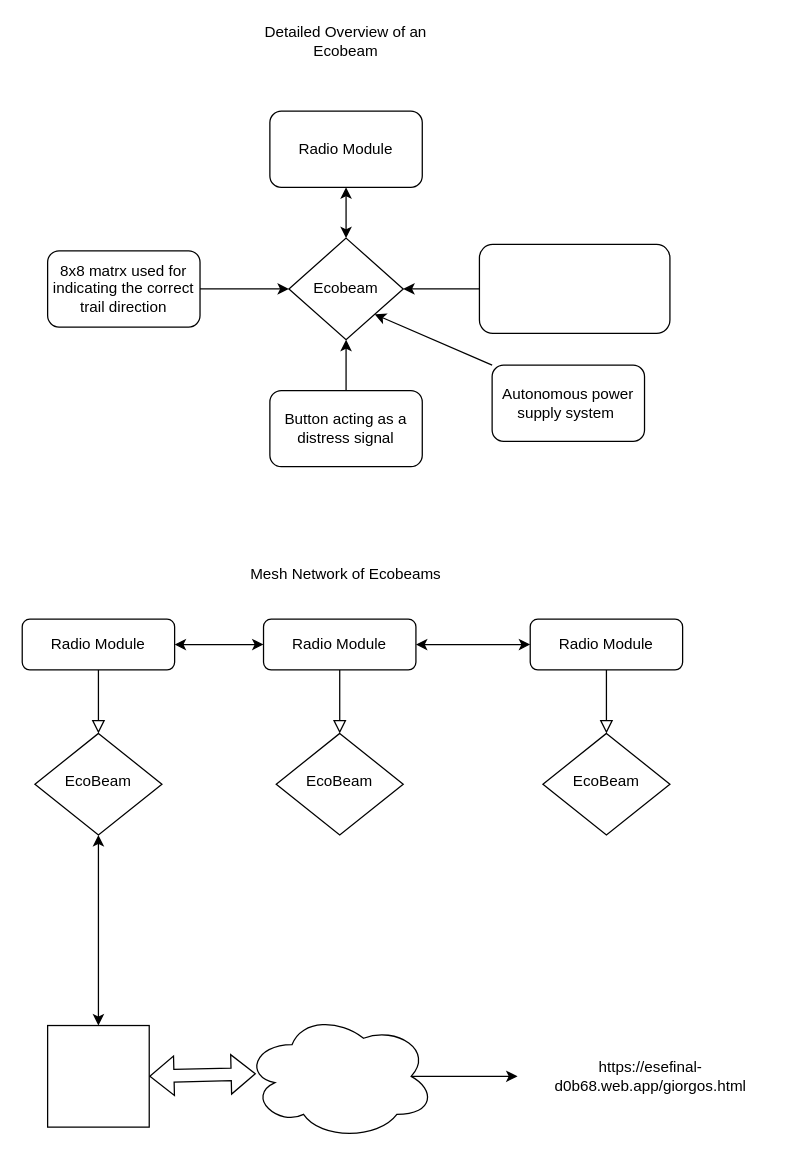
The diagram is 806 pixels wide and 1162 high, and some of its shapes have lost their labels. The shapes that lost their labels are listed below. From the top down, each one's centre as x and y in pixels, then its label:
At [574,288]: "Climate parameters Sensors (Temperature, CO2 concentration".
At [97,1075]: "Ground station".
At [339,1076]: "Database".
